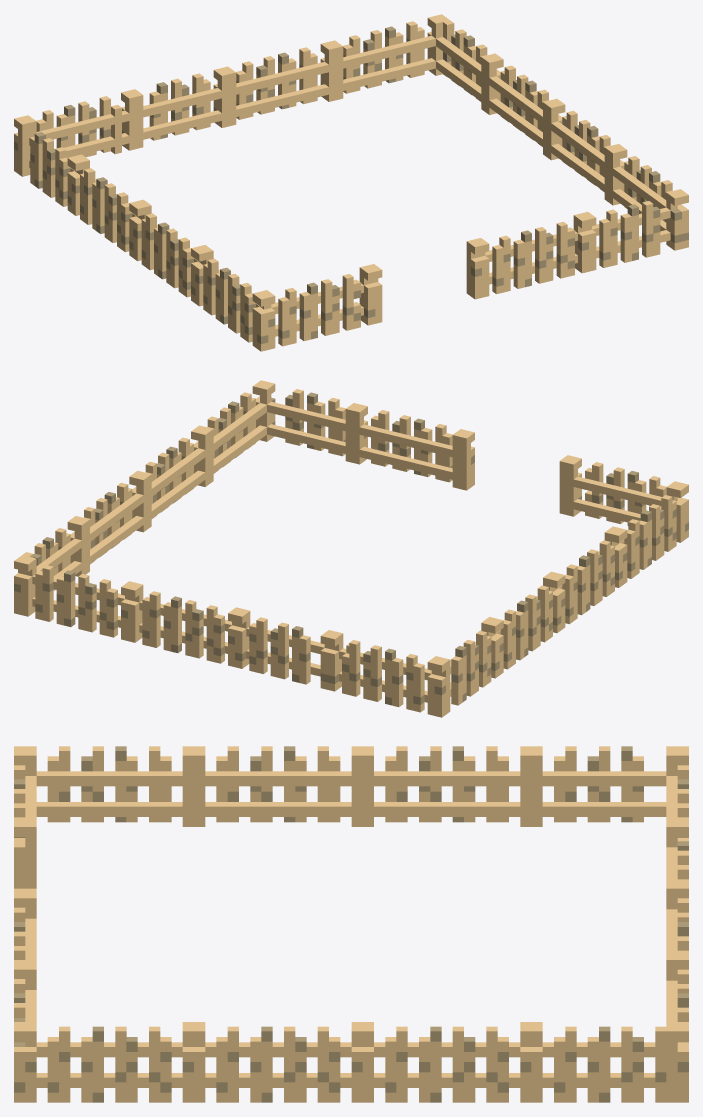
The model's file is Edificio Rojo-0.obj.
3 renders of one model, top to bottom at view 1: azimuth 30°, elevation 25°; view 2: azimuth 150°, elevation 25°; view 3: azimuth 270°, elevation 25°, orthographic. The views are drawn at different scales.
Size of the model in its own units: 6 by 0.7 by 6.
Materials: 1 (1 with a texture image).
